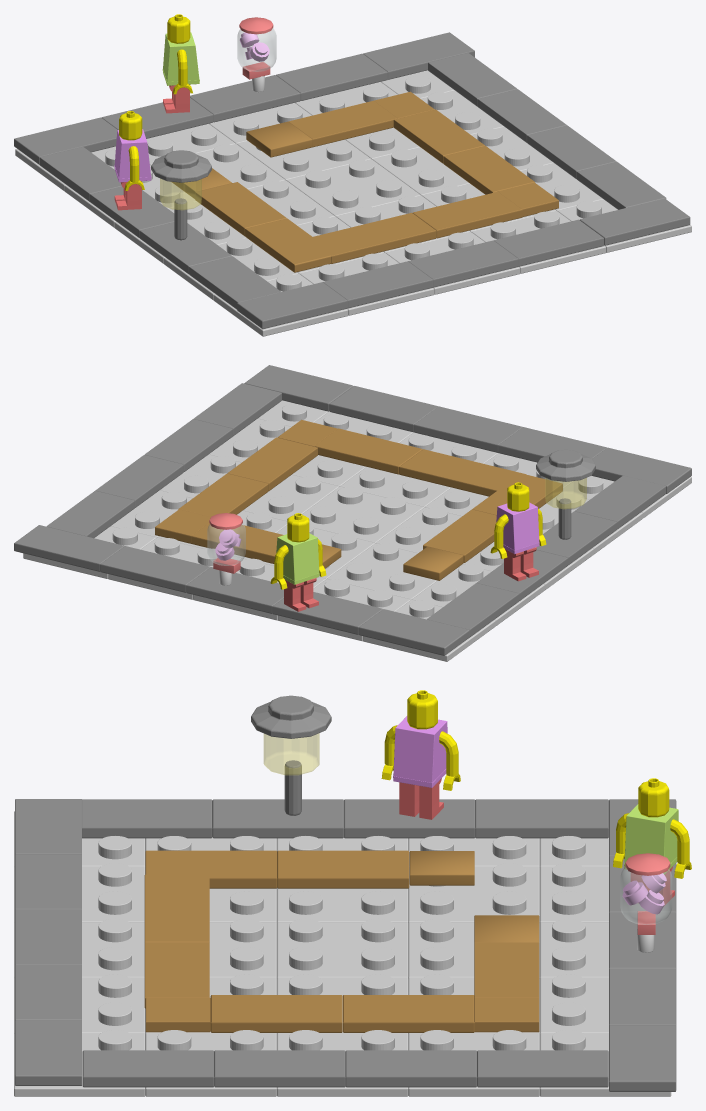
Rendered from Toy_Shop_Ground.fbx.
3 views of the same model, one above another, from view 1: azimuth 30°, elevation 25°; view 2: azimuth 150°, elevation 25°; view 3: azimuth 270°, elevation 25° (orthographic). The views are drawn at different scales.
Parts seen in each view (by area): view 1: Ground_12, Building_25, Cylinder_92, Floor_15_3, Floor_18_6, Floor_15_7, Floor_15_4, Floor_15_5, Floor_15_6, Building_24, woman, Building_27 (+46 smaller); view 2: Ground_12, woman, man, Ground_8, Building_25, Floor_18_3, Cylinder_92, Floor_18_6, Floor_18_7, Floor_15_5, Floor_15_6, Building_24 (+45 smaller); view 3: Ground_12, woman, Ground_8, Cylinder_92, Floor_18_2, Building_26, Floor_15_2, Floor_6_2, Floor_8_2, Floor_9_2, Floor_7_2, man (+46 smaller).
Boxes of the visible parts, bbox=[...] form: Ground_12: bbox=[286, 159, 420, 216]; Building_25: bbox=[313, 212, 436, 263]; Cylinder_92: bbox=[151, 150, 211, 240]; Floor_15_3: bbox=[237, 282, 347, 329]; Floor_18_6: bbox=[276, 53, 387, 100]; Floor_15_7: bbox=[580, 198, 690, 245]; Floor_15_4: bbox=[323, 261, 433, 308]; Floor_15_5: bbox=[408, 240, 518, 287]; Floor_15_6: bbox=[494, 219, 603, 266]; Building_24: bbox=[412, 191, 522, 238]; woman: bbox=[114, 111, 151, 210]; Building_27: bbox=[245, 218, 335, 272]; Ground_12: bbox=[302, 486, 423, 543]; woman: bbox=[490, 482, 546, 581]; man: bbox=[270, 513, 326, 611]; Ground_8: bbox=[327, 543, 437, 599]; Building_25: bbox=[399, 449, 526, 496]; Floor_18_3: bbox=[358, 609, 469, 655]; Cylinder_92: bbox=[536, 449, 595, 539]; Floor_18_6: bbox=[100, 546, 210, 592]; Floor_18_7: bbox=[14, 525, 124, 571]; Floor_15_5: bbox=[414, 406, 522, 452]; Floor_15_6: bbox=[329, 386, 438, 432]; Building_24: bbox=[314, 428, 422, 474]; Ground_12: bbox=[277, 919, 408, 977]; woman: bbox=[381, 690, 460, 819]; Ground_8: bbox=[408, 863, 539, 922]; Cylinder_92: bbox=[251, 695, 331, 815]; Floor_18_2: bbox=[475, 799, 608, 838]; Building_26: bbox=[277, 850, 409, 888]; Floor_15_2: bbox=[81, 799, 212, 838]; Floor_6_2: bbox=[82, 1050, 214, 1087]; Floor_8_2: bbox=[345, 1050, 476, 1087]; Floor_9_2: bbox=[477, 1050, 608, 1087]; Floor_7_2: bbox=[214, 1050, 345, 1087]; man: bbox=[613, 778, 691, 905].
Bounding box in the file's own units: 256 × 60.23 × 258.
